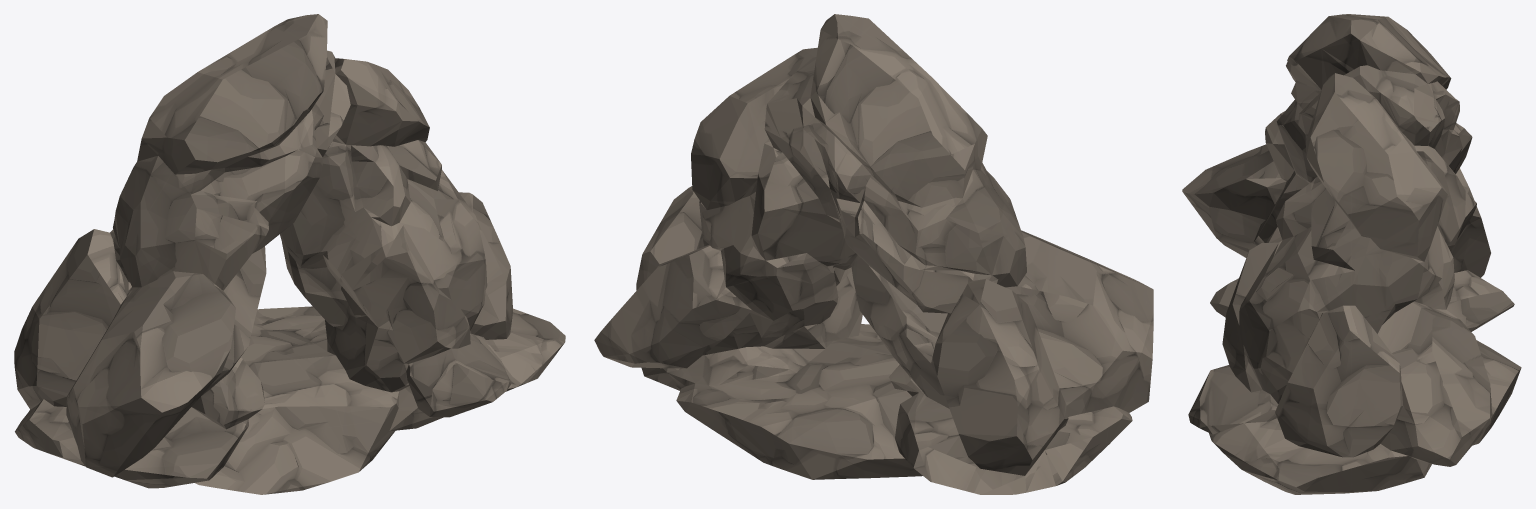
File: synty-rock-caveentrance-01.gltf
3 renders of one model, left to right at view 1: azimuth 30°, elevation 25°; view 2: azimuth 150°, elevation 25°; view 3: azimuth 270°, elevation 25°, orthographic.
Parts seen in each view (by area): view 1: SM_Rock_CaveEntrance_01; view 2: SM_Rock_CaveEntrance_01; view 3: SM_Rock_CaveEntrance_01.
Boxes of the visible parts, <box> form: SM_Rock_CaveEntrance_01: <box>14,14,565,494</box>; SM_Rock_CaveEntrance_01: <box>594,14,1153,494</box>; SM_Rock_CaveEntrance_01: <box>1182,14,1521,494</box>.
Size of the model in its own units: 11.63 by 9.29 by 6.79.
1 material, 1 textured.
